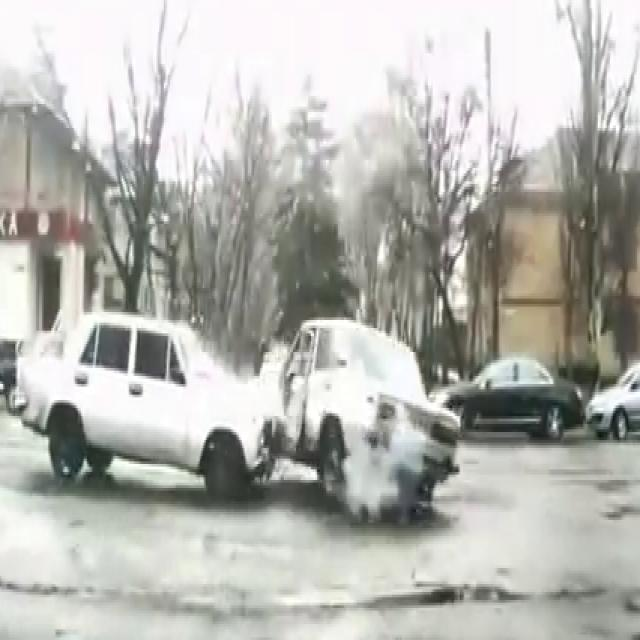accident: (57, 304, 459, 516)
